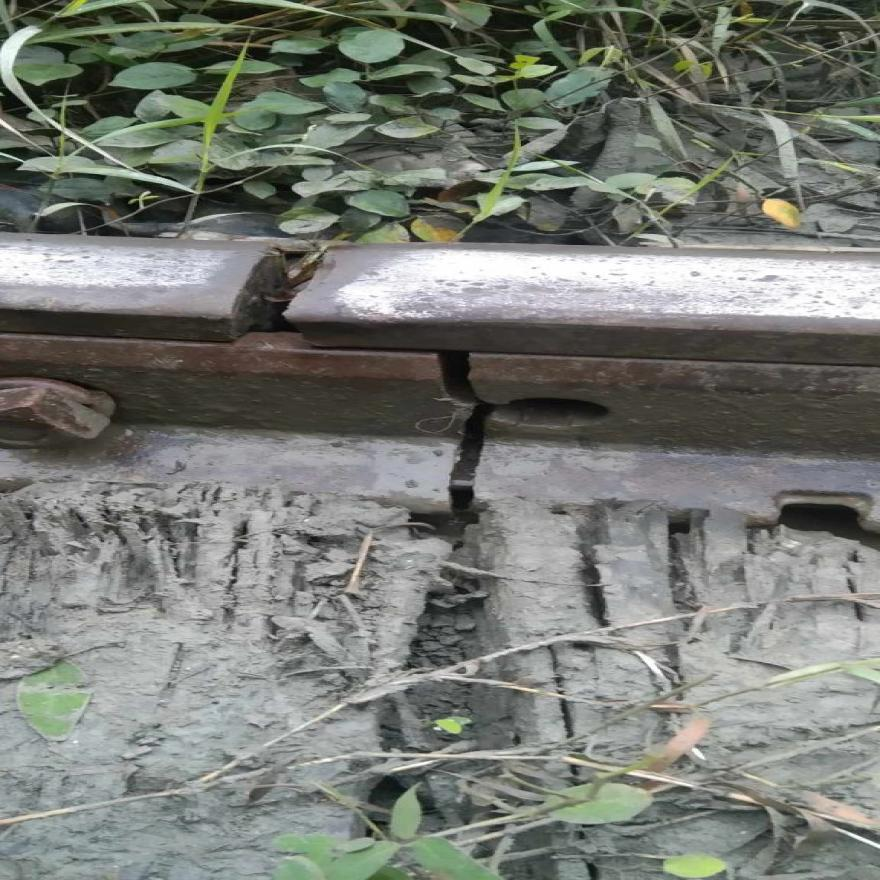railway-gap: (79, 192, 448, 382), (360, 338, 560, 516)
